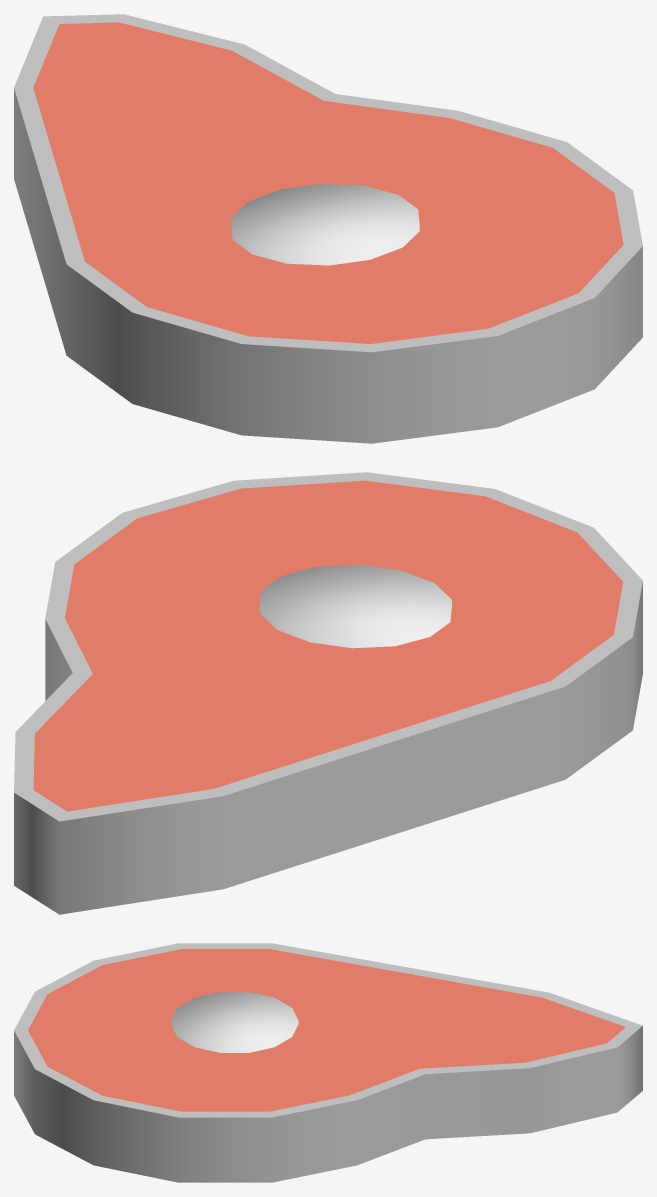
Rendered from steak.fbx.
3 views of the same model, one above another, from view 1: azimuth 30°, elevation 25°; view 2: azimuth 150°, elevation 25°; view 3: azimuth 270°, elevation 25° (orthographic). The views are drawn at different scales.
Visible parts, largest first — view 1: Cylinder, Cylinder.001; view 2: Cylinder, Cylinder.001; view 3: Cylinder, Cylinder.001.
Boxes of the visible parts, left/top/right/bottom form: Cylinder: left=14, top=14, right=642, bottom=443; Cylinder.001: left=231, top=183, right=419, bottom=265; Cylinder: left=14, top=472, right=642, bottom=914; Cylinder.001: left=259, top=564, right=451, bottom=648; Cylinder: left=14, top=943, right=642, bottom=1182; Cylinder.001: left=170, top=992, right=298, bottom=1052.
Bounding box in the file's own units: 195 × 38 × 298.
Materials: 1 (1 with a texture image).
